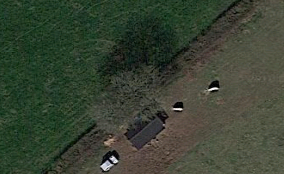tree: (91, 63, 170, 133)
